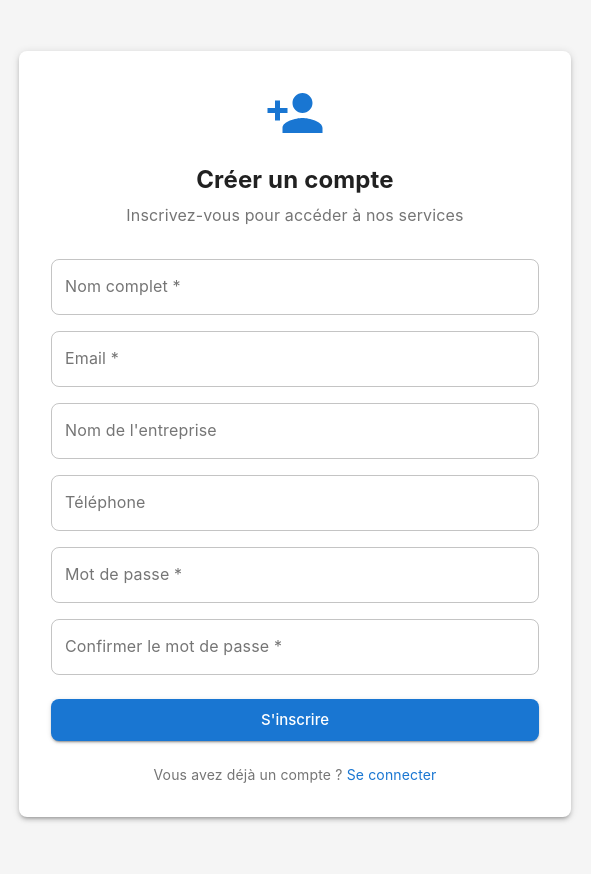
Test case: ClientRegisterPage › affiche les erreurs de validation si le formulaire est vide
Click the button "S'inscrire".
click(295, 720)  # box [51, 699, 539, 741]
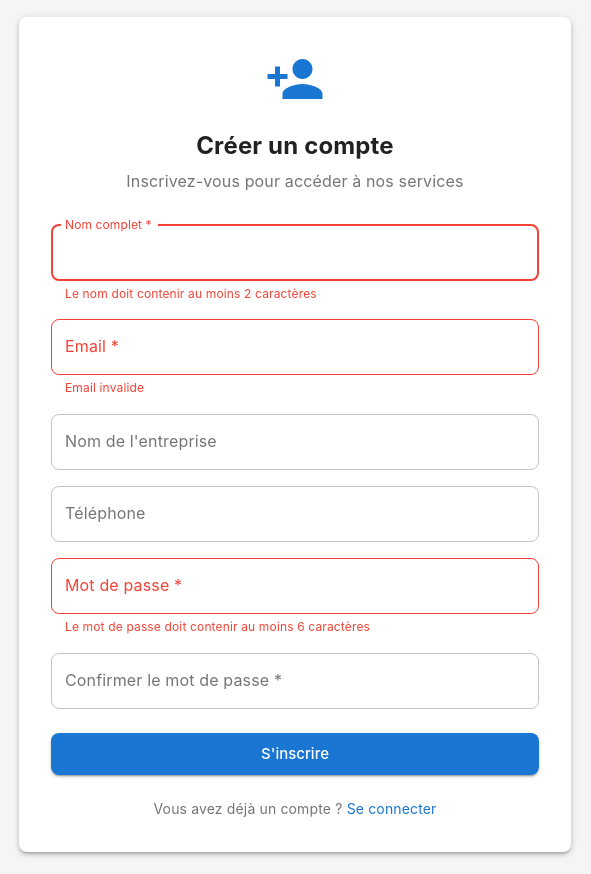
Check: the text "Le nom doit contenir au moins 2 caractères" is shown, box [65, 286, 317, 300]
Check: the text "Email invalide" is shown, box [65, 380, 144, 395]
